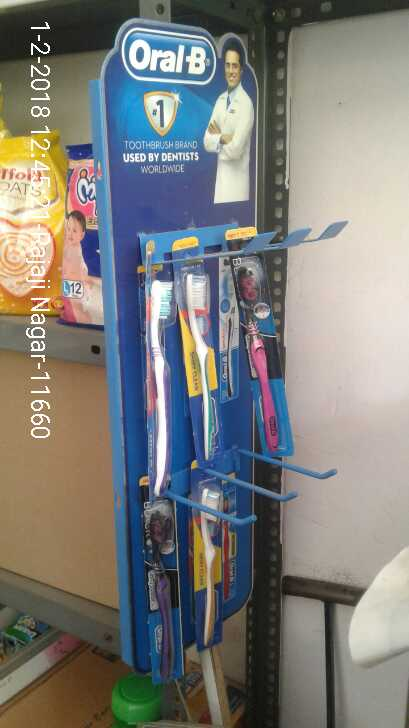oralb: (233, 269, 289, 463), (180, 266, 229, 467), (140, 272, 177, 494)
